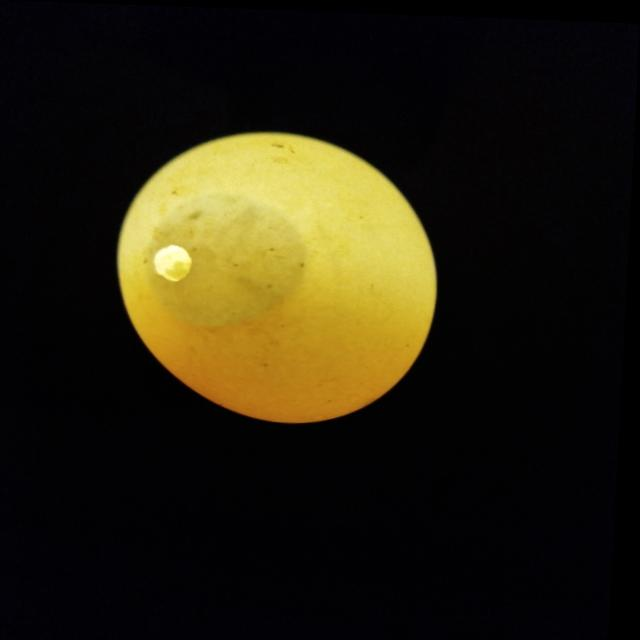Camara de Ar: (149, 188, 311, 320)
